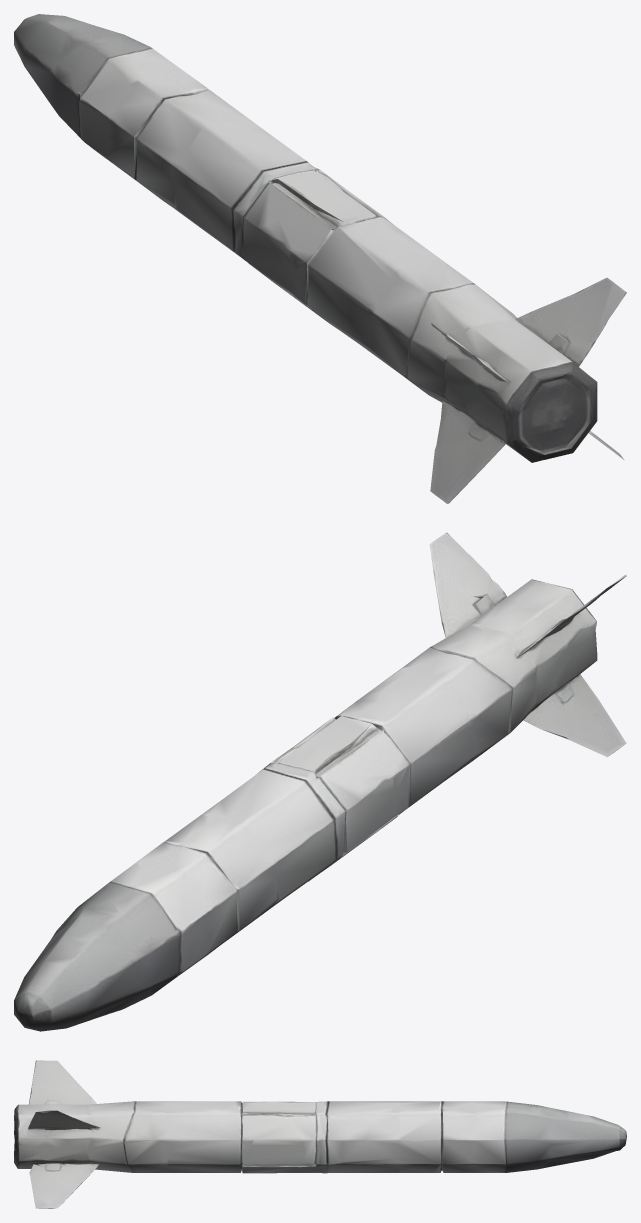
Rendered from missil.glb.
3 views of the same model, one above another, from view 1: azimuth 30°, elevation 25°; view 2: azimuth 150°, elevation 25°; view 3: azimuth 270°, elevation 25° (orthographic). The views are drawn at different scales.
Parts seen in each view (by area): view 1: tripo_node_57d6755d-94d0-4f35-8663-0d12e76b4d6c; view 2: tripo_node_57d6755d-94d0-4f35-8663-0d12e76b4d6c; view 3: tripo_node_57d6755d-94d0-4f35-8663-0d12e76b4d6c.
Boxes of the visible parts, x1,y1,x2,y2 form: tripo_node_57d6755d-94d0-4f35-8663-0d12e76b4d6c: (14,14,626,503); tripo_node_57d6755d-94d0-4f35-8663-0d12e76b4d6c: (14,532,626,1031); tripo_node_57d6755d-94d0-4f35-8663-0d12e76b4d6c: (14,1060,626,1208).
Size of the model in its own units: 0.1965 by 0.1774 by 0.9995.
Materials: 1 (1 with a texture image).
